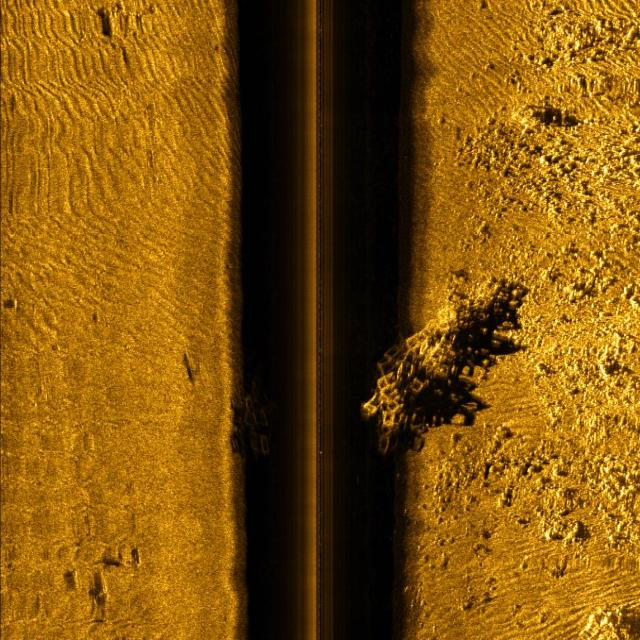artificial reef: (352, 274, 524, 461), (238, 384, 282, 464)
